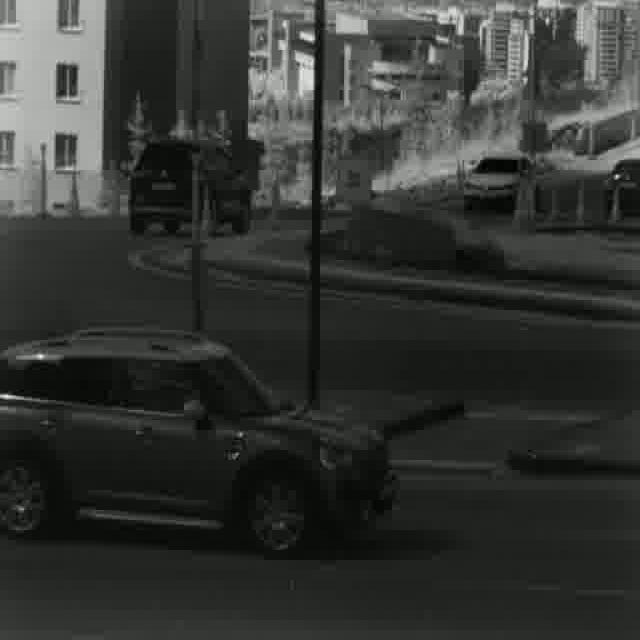Car: (0, 325, 402, 557), (127, 142, 251, 236), (462, 147, 536, 216), (602, 153, 640, 216)
